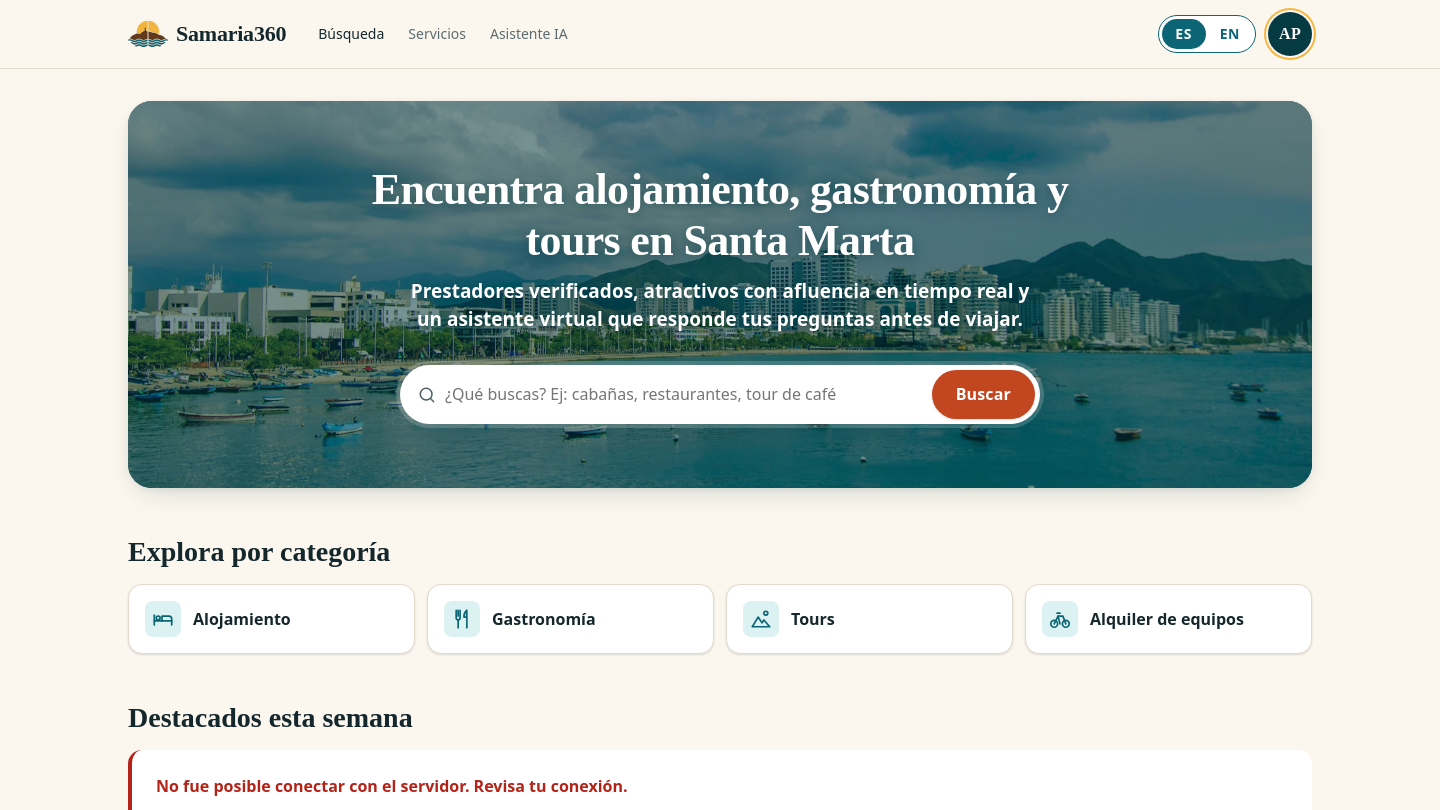
Scenario: Sesión › Cerrar sesión desde el menú del avatar borra el token y vuelve al login (RF55)
Step 1. Click the button with aria-label "Menú de usuario de Ana Pérez" → (1290, 34), box x1=1268 y1=12 x2=1312 y2=56
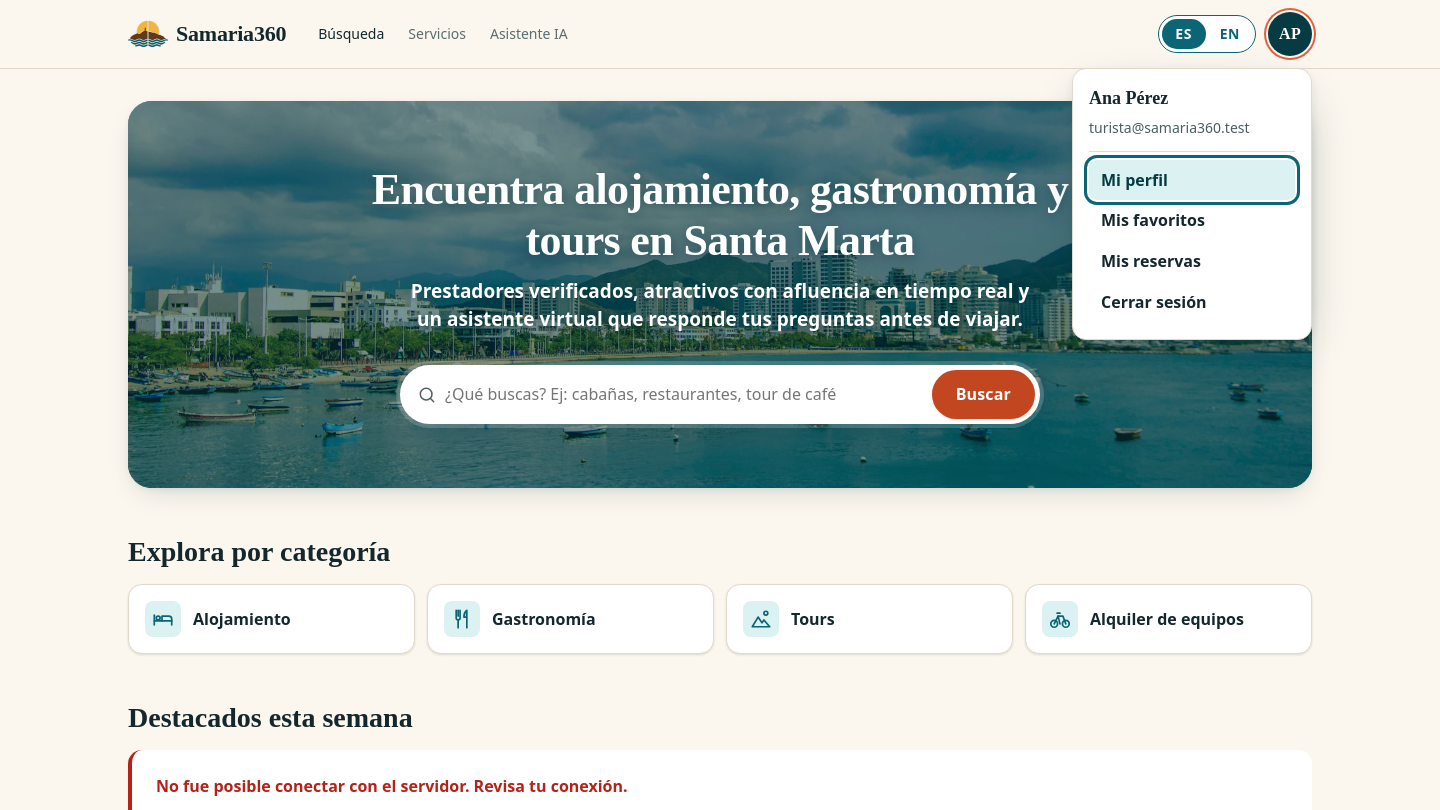
Step 2. Click the menu item "Cerrar sesión" → (1192, 302), box x1=1089 y1=282 x2=1295 y2=323
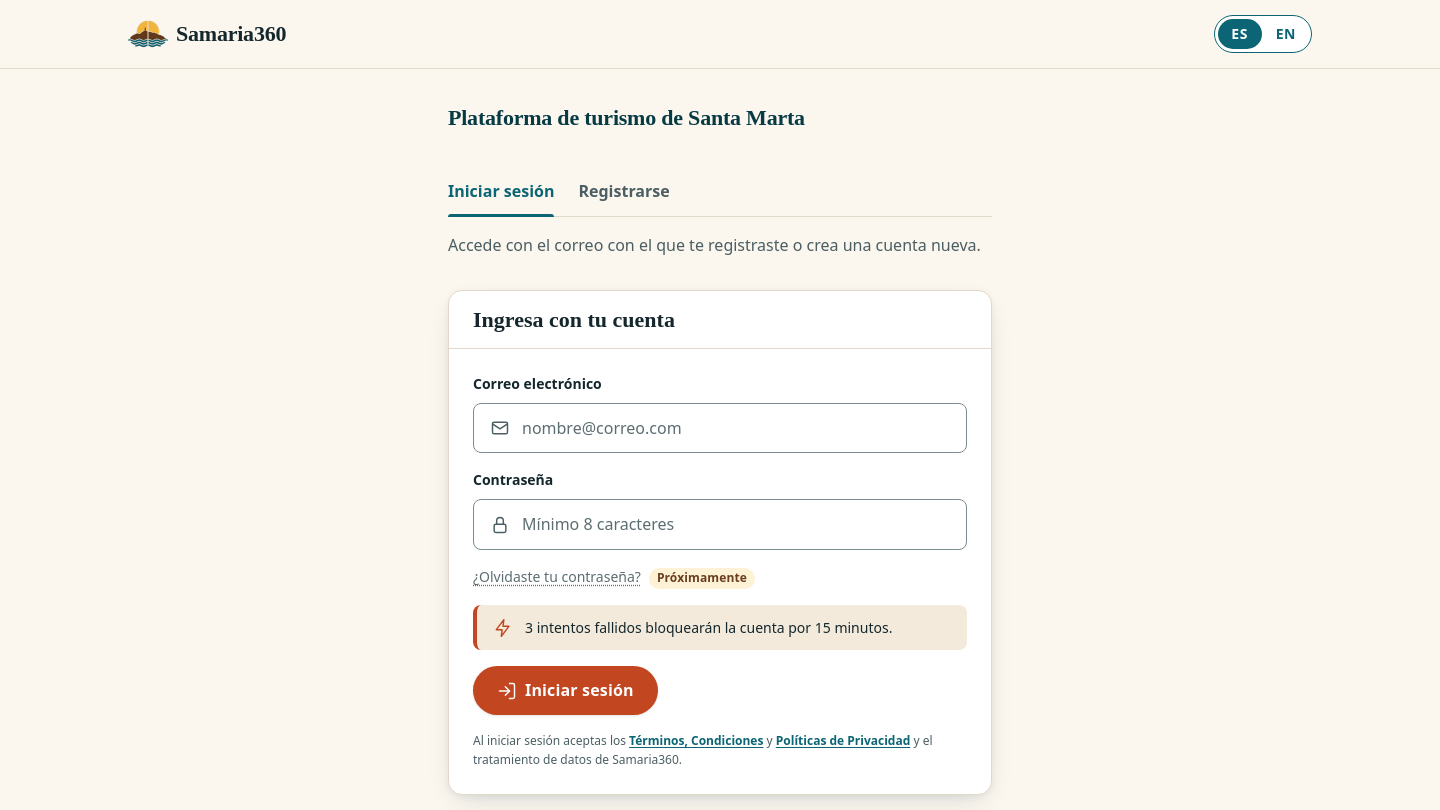
Now the field labelled "Correo electrónico" is shown, box x1=522 y1=404 x2=950 y2=452
